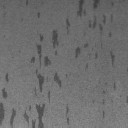red iron: (0, 0, 115, 128), (102, 82, 116, 118), (37, 12, 40, 18), (26, 0, 28, 4)
